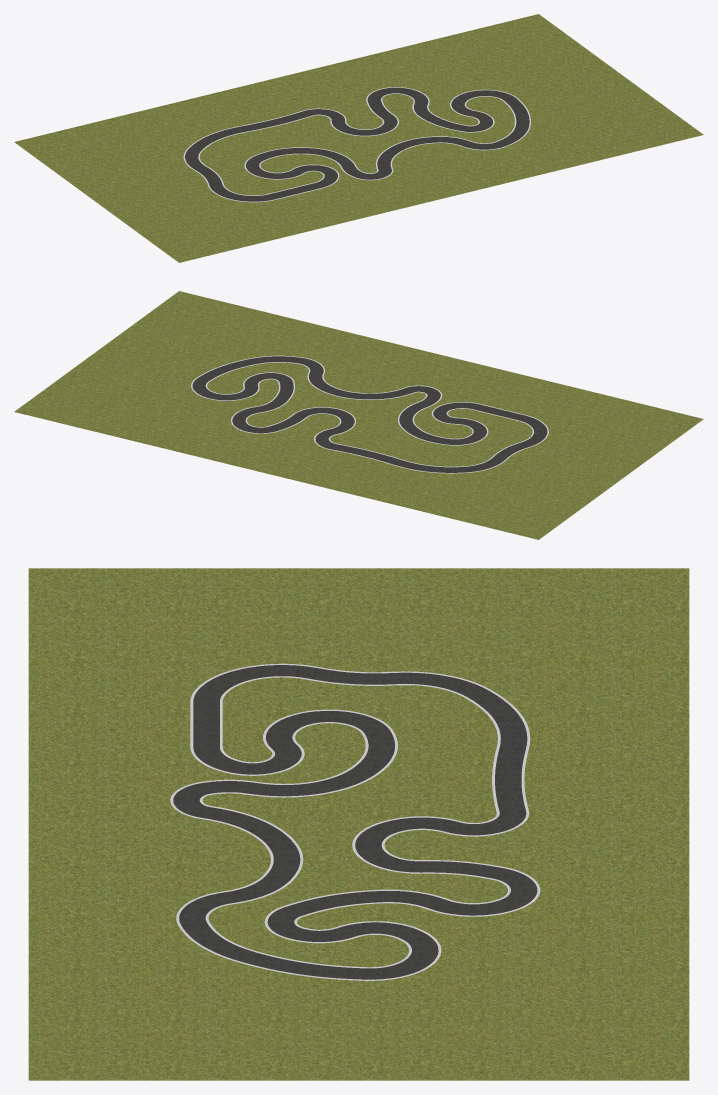
File: track9.dae
3 renders of one model, top to bottom at view 1: azimuth 30°, elevation 25°; view 2: azimuth 150°, elevation 25°; view 3: azimuth 270°, elevation 25°, orthographic. The views are drawn at different scales.
Parts seen in each view (by area): view 1: field, road, outerline, innerline; view 2: field, road, outerline, innerline; view 3: field, road, outerline, innerline.
Part boxes in pixels (x1,y1,x2,y2): field: (14, 14, 703, 262); road: (185, 87, 529, 201); outerline: (183, 87, 530, 202); innerline: (198, 93, 516, 195); field: (14, 291, 703, 539); road: (192, 356, 547, 472); outerline: (191, 355, 548, 473); innerline: (205, 362, 533, 467); field: (28, 568, 689, 1080); road: (173, 665, 537, 979); outerline: (170, 663, 540, 980); innerline: (199, 676, 510, 968).
Size of the model in its own units: 74.83 by 40.8 by 0.01.
3 materials, 3 textured.
